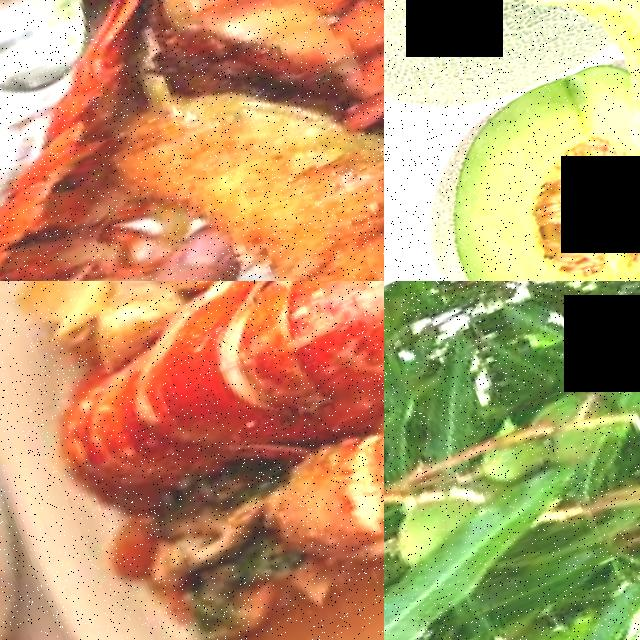lobster tails: (14, 281, 384, 543), (217, 0, 384, 281)
mango: (384, 281, 424, 359)
melon: (384, 40, 640, 281), (384, 0, 551, 157), (516, 0, 640, 153)
